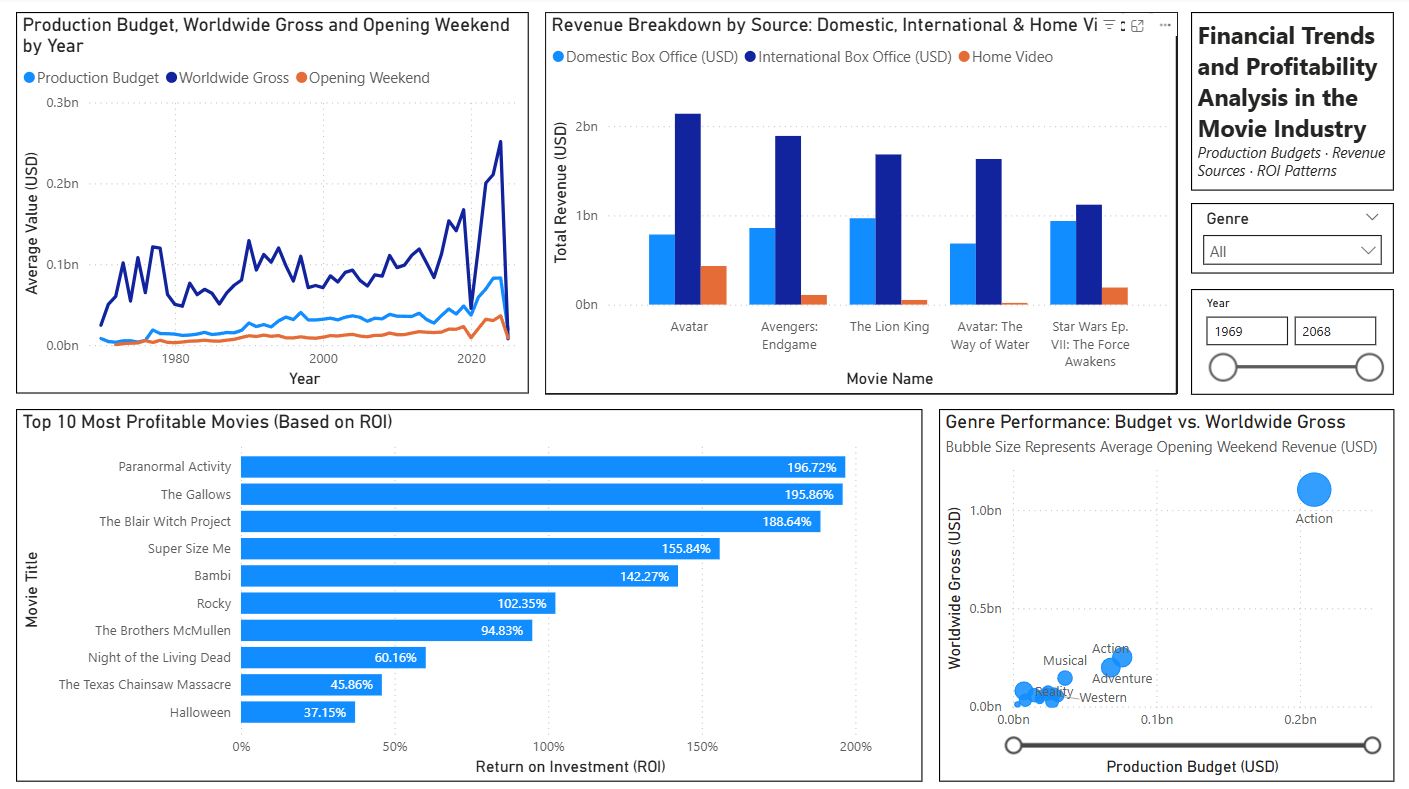

What the dashboard file says about the page in this screenshot:
{"tool":"powerbi","page":{"name":"Financial Performance","canvas":[1280,720],"ordinal":0},"visuals":[{"type":"scatterChart","title":"Genre Performance: Budget vs. Worldwide Gross","fields":{"X":["Avg(Movie Industry Performance Analysis - Dataset(1).Production Budget (USD))"],"Y":["Avg(Movie Industry Performance Analysis - Dataset(1).Worldwide Gross (USD))"],"Category":["Movie Industry Performance Analysis - Dataset(1).Genre"],"Size":["Avg(Movie Industry Performance Analysis - Dataset(1).Opening Weekend (USD))"]},"box":[851.1,373.3,413.3,337.8],"z":0},{"type":"slicer","fields":{"Values":["Movie Industry Performance Analysis - Dataset(1).Genre"]},"box":[1080,186.7,184.4,64.4],"z":1000},{"type":"clusteredBarChart","title":"Top 10 Most Profitable Movies (Based on ROI)","fields":{"Category":["Movie Industry Performance Analysis - Dataset(1).Movie Name"],"Y":["Sum(Movie Industry Performance Analysis - Dataset(1).ROI)"]},"box":[14.4,373.3,822.2,337.8],"z":2000},{"type":"clusteredColumnChart","title":"Revenue Breakdown by Source: Domestic, International & Home Video","fields":{"Category":["Movie Industry Performance Analysis - Dataset(1).Movie Name"],"Y":["Sum(Movie Industry Performance Analysis - Dataset(1).Domestic Box Office (USD))","Sum(Movie Industry Performance Analysis - Dataset(1).International Box Office (USD))","Sum(Movie Industry Performance Analysis - Dataset(1).Total Est. Domestic Video Sales (USD))"]},"box":[494.4,13.3,573.3,346.7],"z":3000},{"type":"lineChart","fields":{"Category":["Movie Industry Performance Analysis - Dataset(1).Release Date.Variation.Date Hierarchy.Year"],"Y":["Avg(Movie Industry Performance Analysis - Dataset(1).Production Budget (USD))","Avg(Movie Industry Performance Analysis - Dataset(1).Worldwide Gross (USD))","Avg(Movie Industry Performance Analysis - Dataset(1).Opening Weekend (USD))"]},"box":[28.9,13.3,451.1,346.7],"z":4000},{"type":"slicer","fields":{"Values":["Movie Industry Performance Analysis - Dataset(1).Release Date.Variation.Date Hierarchy.Year"]},"box":[1080,264.4,184.4,95.6],"z":5000},{"type":"textbox","box":[1080,13.3,184.4,162.2],"z":6000}]}

Visuals, with their boxes in screenshot pixels (x1, y1, x2, y2), scaled from the page's 1280x720 canvas onto the 1409x789 screenshot:
"Genre Performance: Budget vs. Worldwide Gross" scatterChart: 937,409,1392,779
slicer - Movie Industry Performance Analysis - Dataset(1).Genre: 1189,205,1392,275
"Top 10 Most Profitable Movies (Based on ROI)" clusteredBarChart: 16,409,921,779
"Revenue Breakdown by Source: Domestic, International & Home Video" clusteredColumnChart: 544,15,1175,395
lineChart - Movie Industry Performance Analysis - Dataset(1).Release Date.Variation.Date Hierarchy.Year x Avg(Movie Industry Performance Analysis - Dataset(1).Production Budget (USD)): 32,15,528,395
slicer - Movie Industry Performance Analysis - Dataset(1).Release Date.Variation.Date Hierarchy.Year: 1189,290,1392,395
textbox: 1189,15,1392,192
